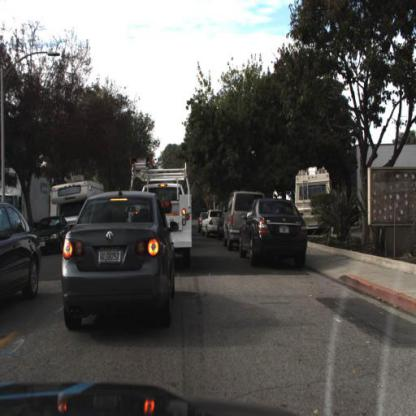car: (61, 189, 181, 333), (237, 195, 310, 272), (1, 199, 43, 312), (166, 163, 197, 271), (223, 188, 267, 251), (49, 173, 100, 224), (28, 213, 72, 258), (201, 207, 224, 243), (216, 200, 228, 246)
truck: (143, 181, 196, 261), (1, 166, 50, 243), (290, 160, 335, 240), (51, 176, 105, 233)
